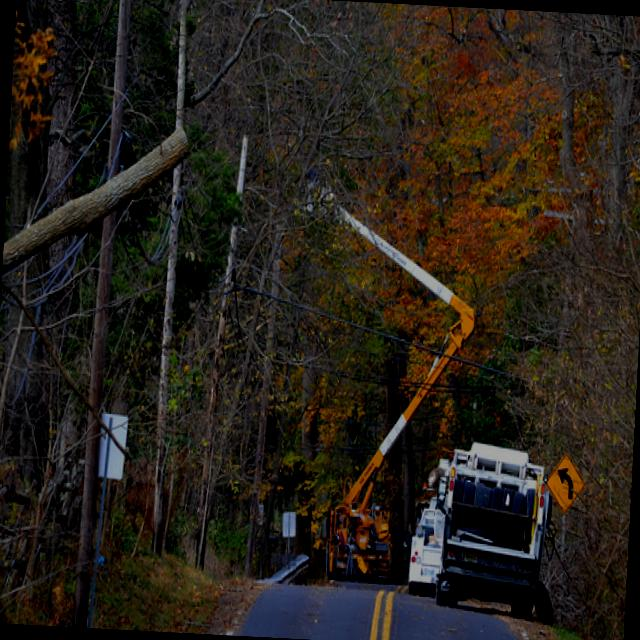Vehicle: (433, 441, 556, 620), (408, 508, 444, 600)
